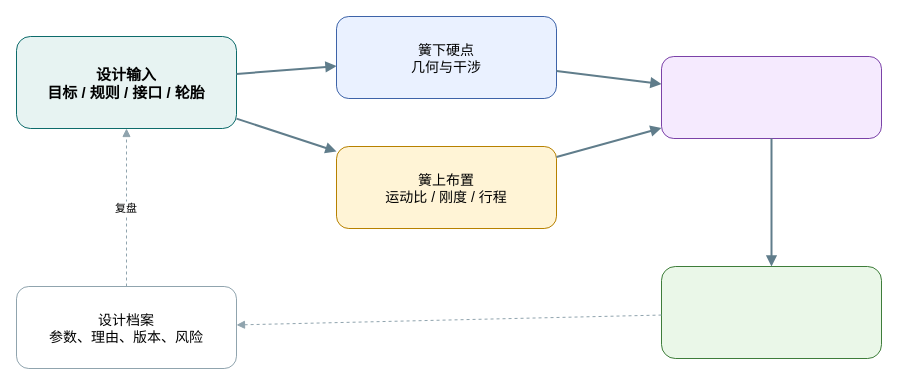
This 898x385 diagram has some shape labels left out. The centre of each missing label's shape, as x and y in pixels:
仿真分析 K&C / 整车 / 载荷: (771,97)
验证输出 校核 / 测试 / 调校: (771,312)
